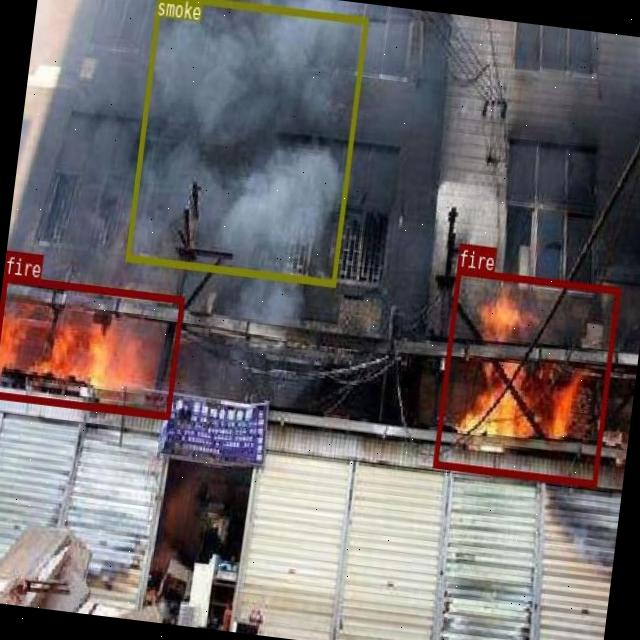fire: (432, 266, 619, 486), (0, 274, 184, 418)
smoke: (124, 0, 367, 285)
